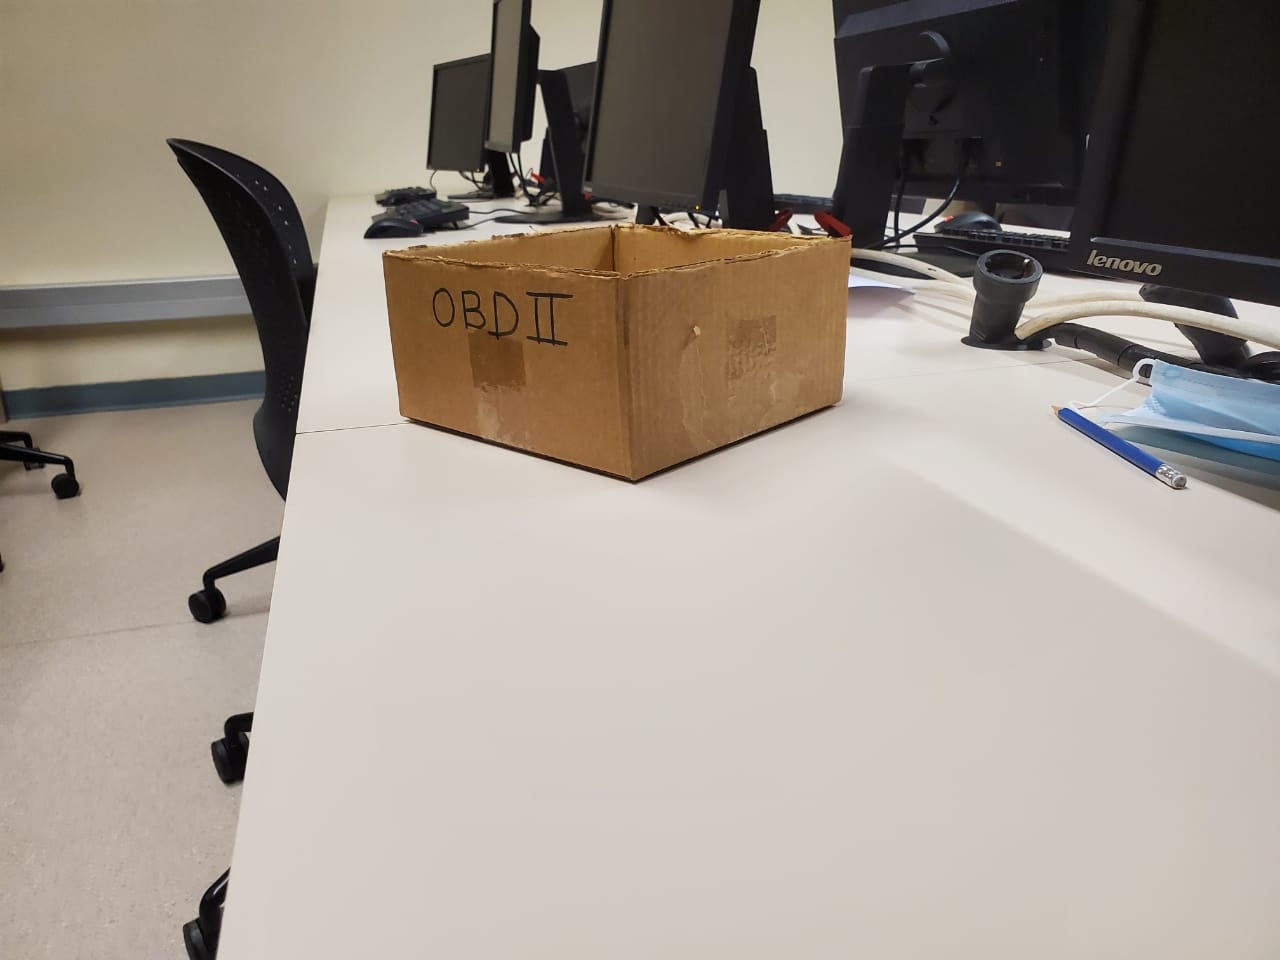CBox: (379, 221, 864, 484)
